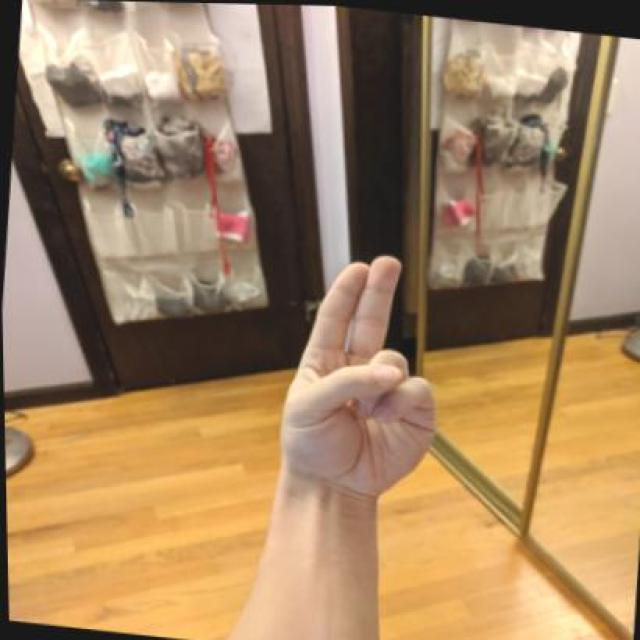U: (256, 257, 443, 530)
